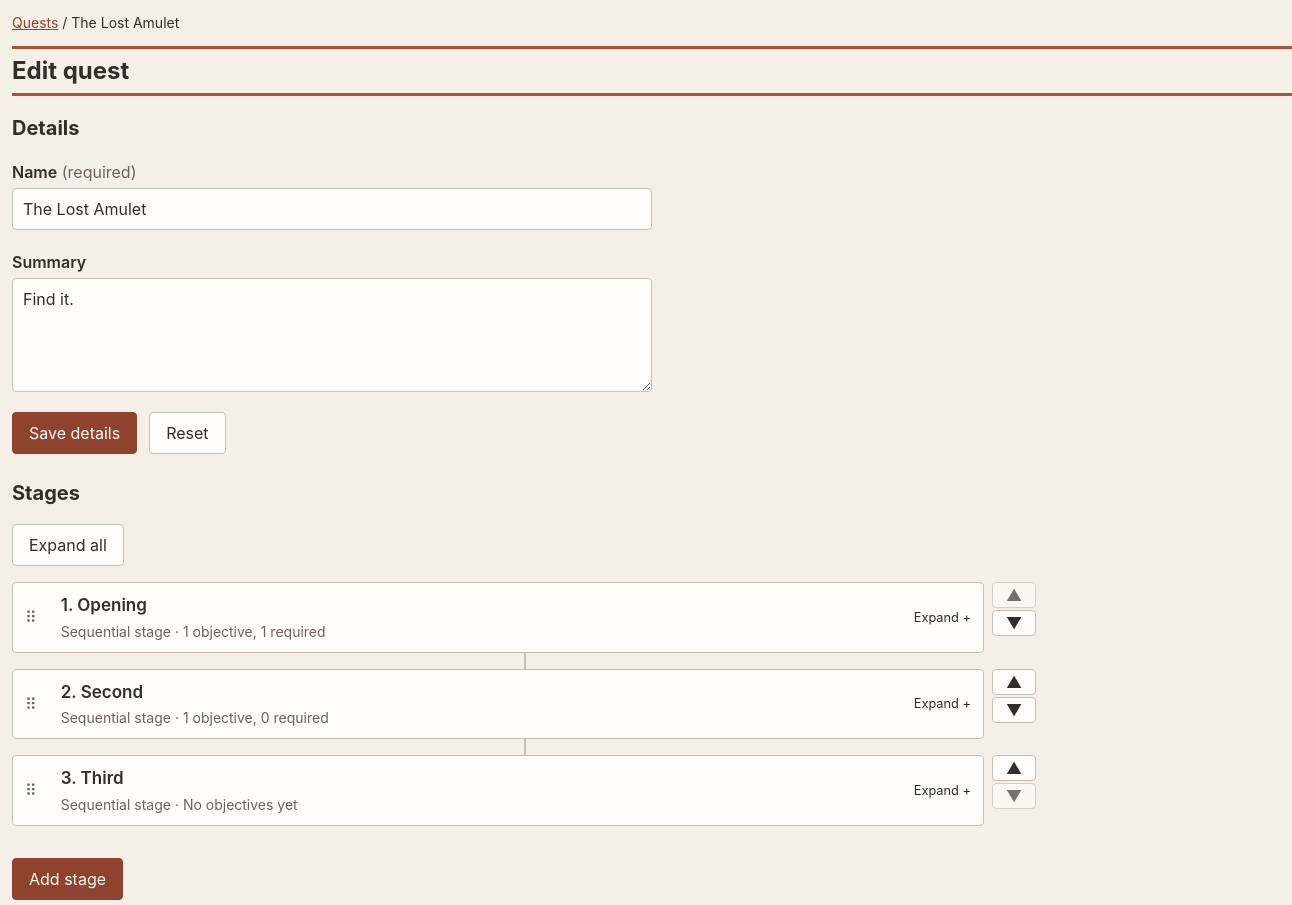
Quest stage cards › announces a failed reorder and keeps the authoritative order
The width and height of the screenshot is (1292, 905).
Click the button named "Move down Opening".
click(1014, 623)  # box [992, 610, 1036, 636]
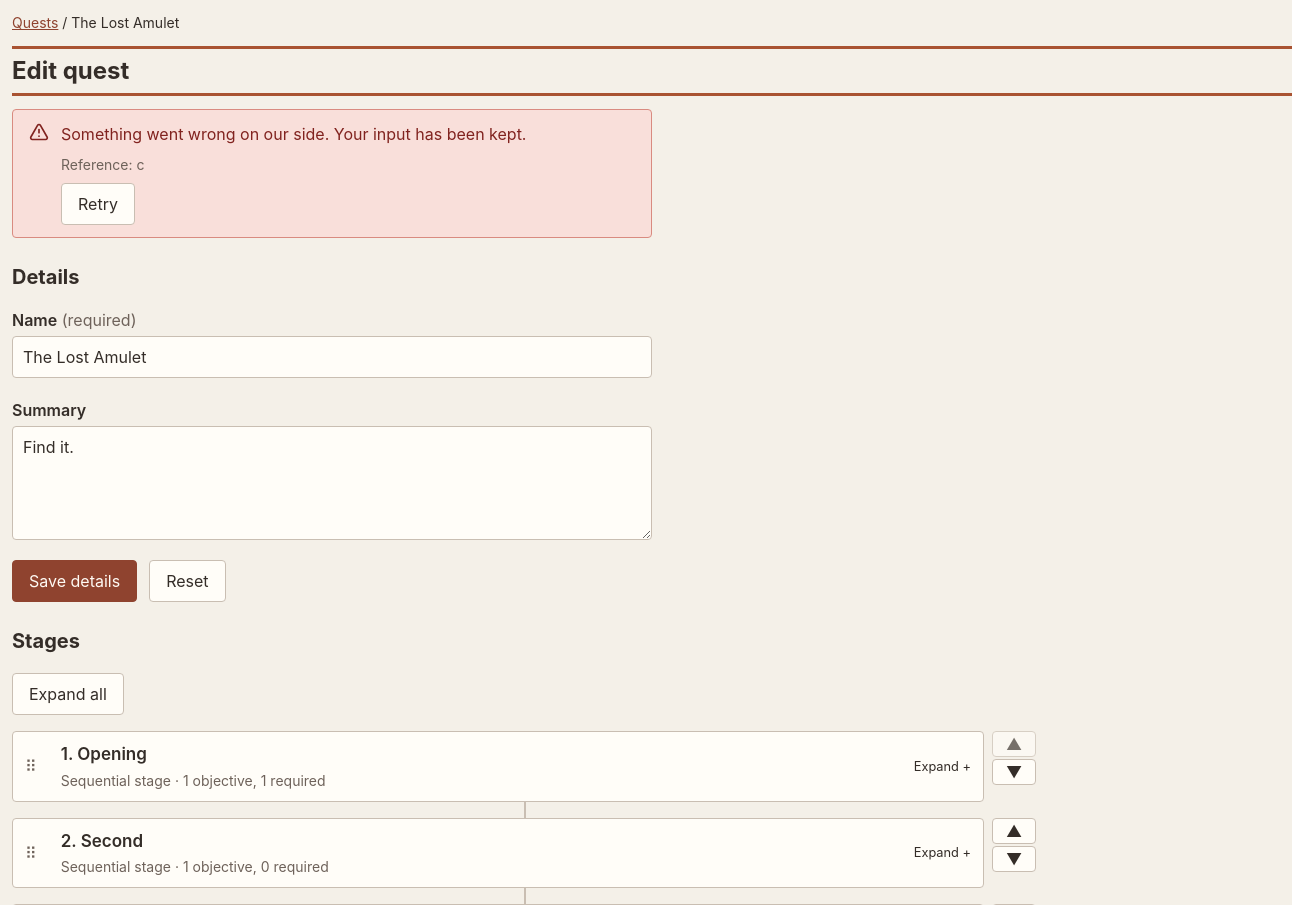
Now the message "Something went wrong on our side. Your input has been kept. Reference: c Retry" is shown, box [12, 109, 652, 238]
